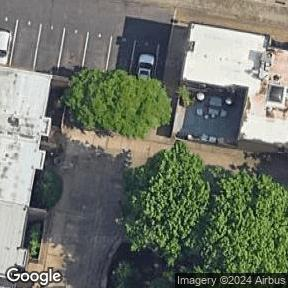vegetation: (61, 59, 179, 148), (108, 260, 138, 288), (40, 175, 59, 209), (25, 223, 42, 257), (181, 88, 188, 99)
